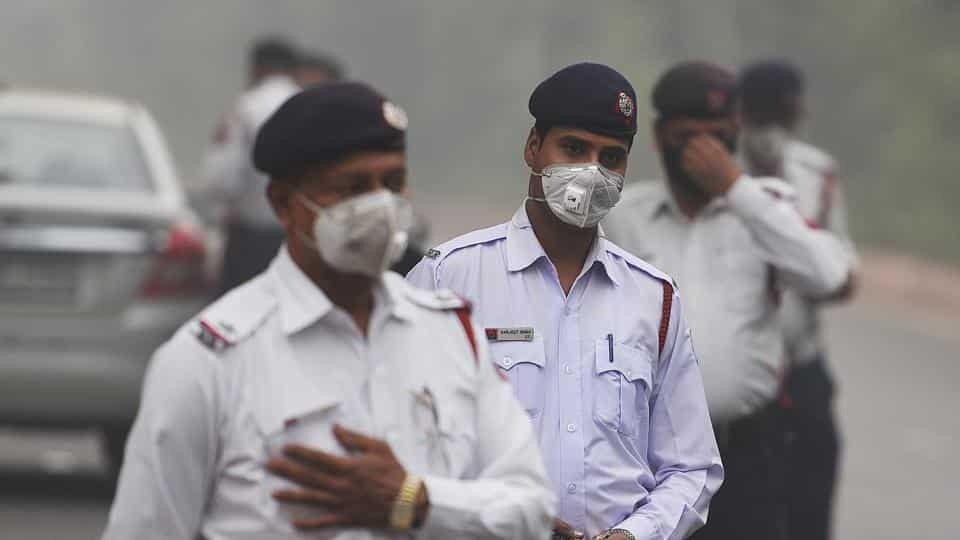face_with_mask: (256, 77, 414, 280), (516, 62, 640, 234)
